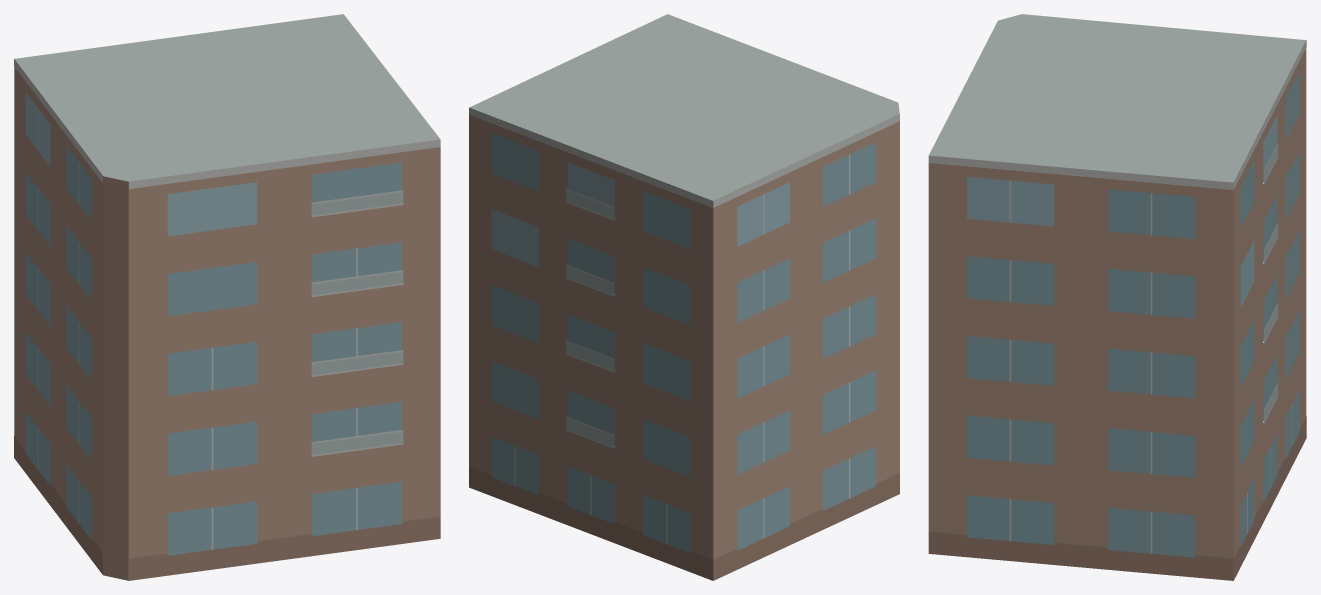
The model's file is survey-upis-32930256.glb.
The picture shows the model from 3 angles, left to right: view 1: azimuth 30°, elevation 25°; view 2: azimuth 150°, elevation 25°; view 3: azimuth 270°, elevation 25°; orthographic projection. The views are drawn at different scales.
Parts seen in each view (by area): view 1: survey-upis-32930256.tmp; view 2: survey-upis-32930256.tmp; view 3: survey-upis-32930256.tmp.
Part boxes in pixels (<box>): survey-upis-32930256.tmp: <box>14,14,440,580</box>; survey-upis-32930256.tmp: <box>469,14,899,580</box>; survey-upis-32930256.tmp: <box>928,14,1306,580</box>.
Bounding box in the file's own units: 11.82 × 13 × 11.19.
